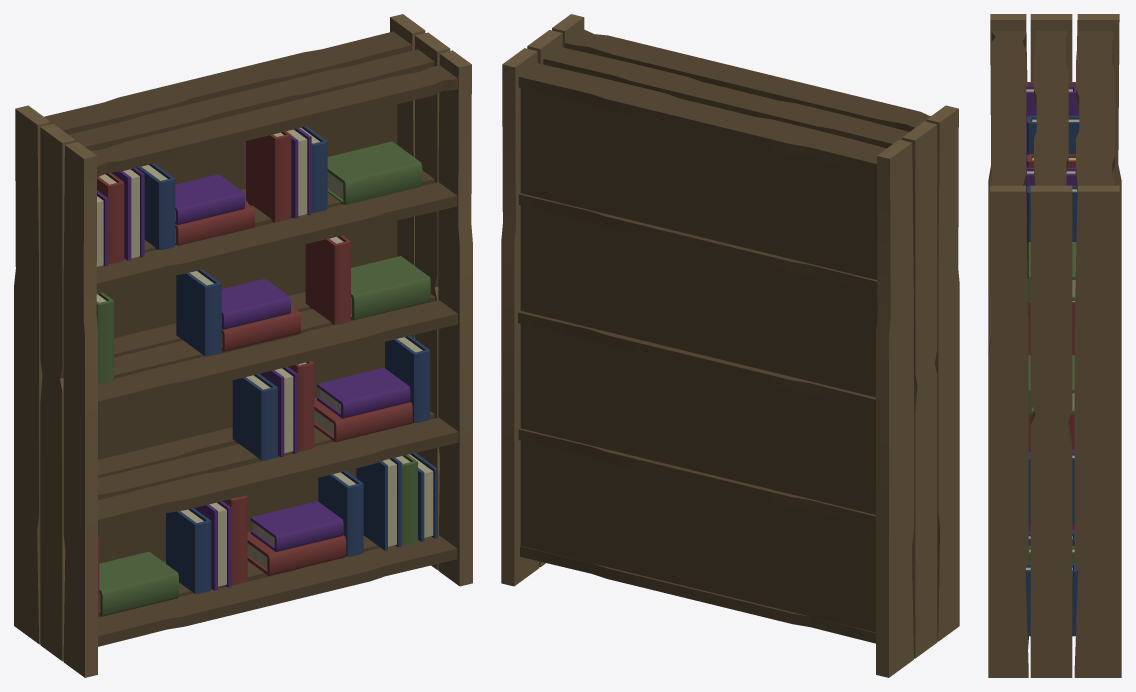
File: Bookcase_1_Left.fbx
3 renders of one model, left to right at view 1: azimuth 30°, elevation 25°; view 2: azimuth 150°, elevation 25°; view 3: azimuth 270°, elevation 25°, orthographic. The views are drawn at different scales.
Parts seen in each view (by area): view 1: Bookcase_Full; view 2: Bookcase_Full; view 3: Bookcase_Full.
Part boxes in pixels (box(x1,y1,x2,y2)): Bookcase_Full: box(14, 14, 472, 677); Bookcase_Full: box(501, 14, 959, 677); Bookcase_Full: box(988, 14, 1121, 677).
Bounding box in the file's own units: 208 × 265 × 65.82.
